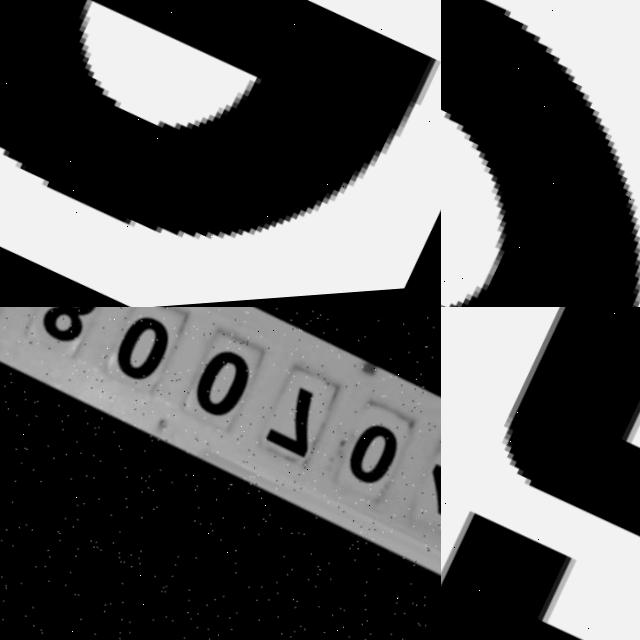0: (293, 387, 433, 536), (144, 314, 284, 462), (60, 307, 206, 428)
4: (369, 425, 441, 567)
7: (216, 350, 359, 501)
8: (0, 307, 133, 387)
A: (441, 307, 640, 640)
O: (441, 0, 640, 307)
